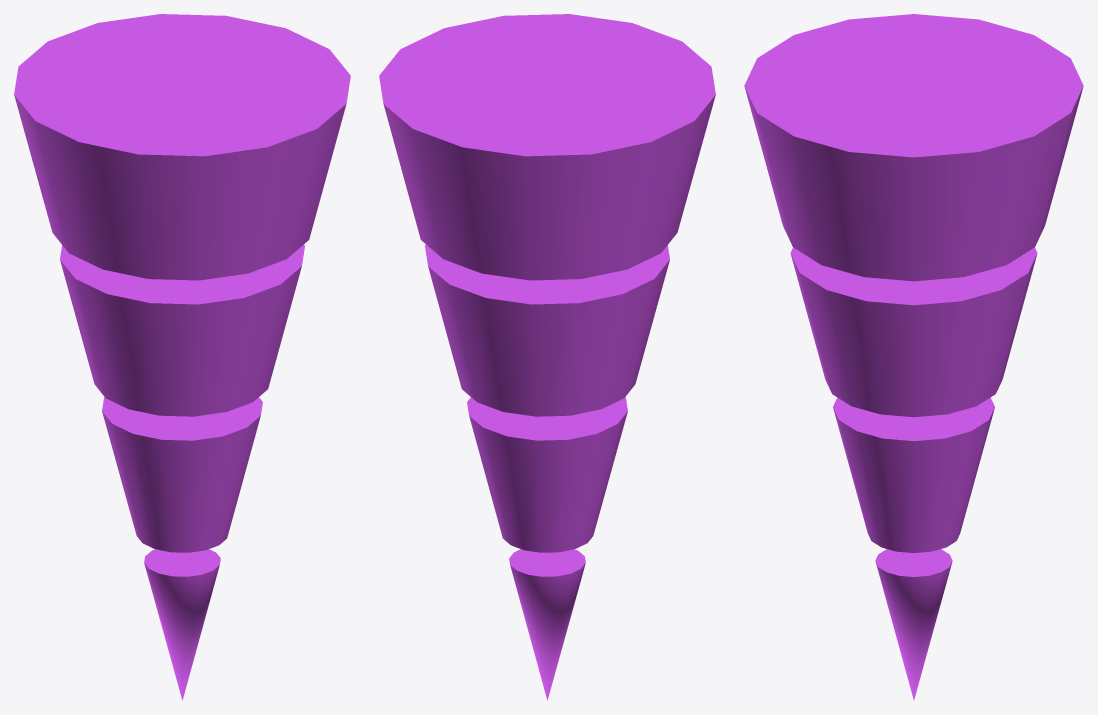
Rendered from LevelUp LP1.fbx.
3 renders of one model, left to right at view 1: azimuth 30°, elevation 25°; view 2: azimuth 150°, elevation 25°; view 3: azimuth 270°, elevation 25°, orthographic.
Parts seen in each view (by area): view 1: Pilar A LP1, Pilar C LP1, Pilar B LP1; view 2: Pilar A LP1, Pilar C LP1, Pilar B LP1; view 3: Pilar A LP1, Pilar C LP1, Pilar B LP1.
Part boxes in pixels (x1,y1,x2,y2): Pilar A LP1: (14, 14, 350, 700); Pilar C LP1: (60, 244, 304, 416); Pilar B LP1: (102, 397, 262, 552); Pilar A LP1: (379, 14, 715, 700); Pilar C LP1: (425, 244, 669, 416); Pilar B LP1: (467, 397, 627, 552); Pilar A LP1: (744, 14, 1083, 699); Pilar C LP1: (790, 247, 1037, 417); Pilar B LP1: (833, 397, 994, 552).
Size of the model in its own units: 60 by 120 by 60.
